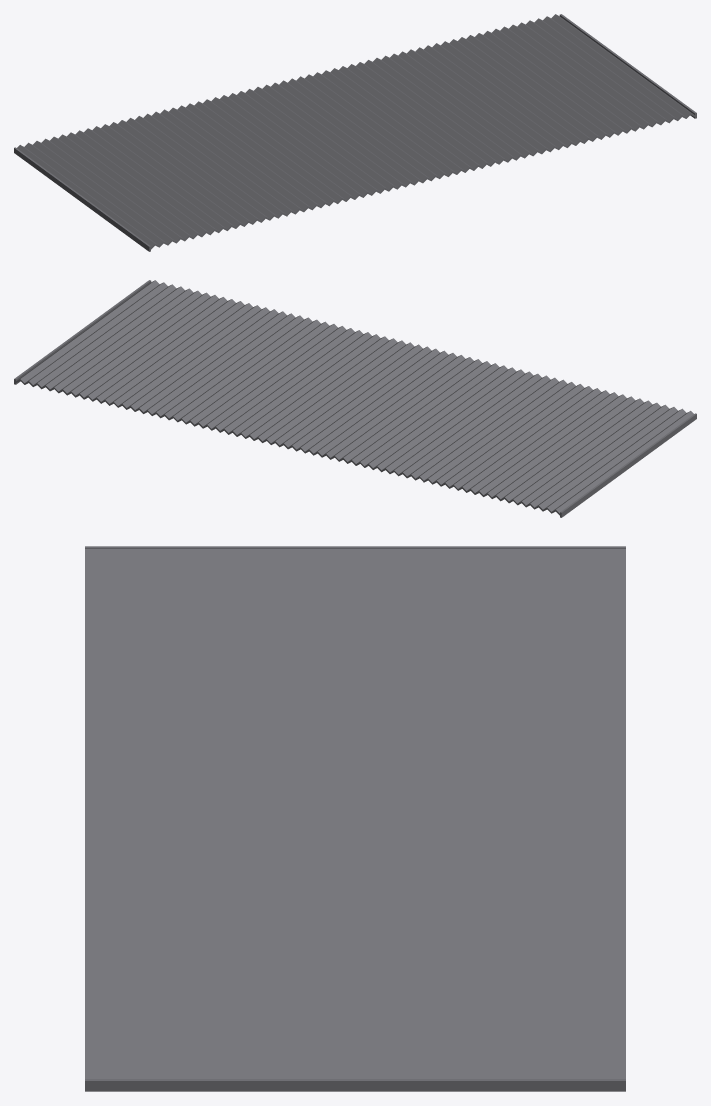
The model's file is BlechDach.fbx.
3 views of the same model, one above another, from view 1: azimuth 30°, elevation 25°; view 2: azimuth 150°, elevation 25°; view 3: azimuth 270°, elevation 25° (orthographic). The views are drawn at different scales.
Parts seen in each view (by area): view 1: Plane.001; view 2: Plane.001; view 3: Plane.001.
Boxes of the visible parts, x1,y1,x2,y2 form: Plane.001: (14,14,696,251); Plane.001: (14,280,696,517); Plane.001: (85,546,625,1091).
Size of the model in its own units: 2099 by 24.98 by 897.
